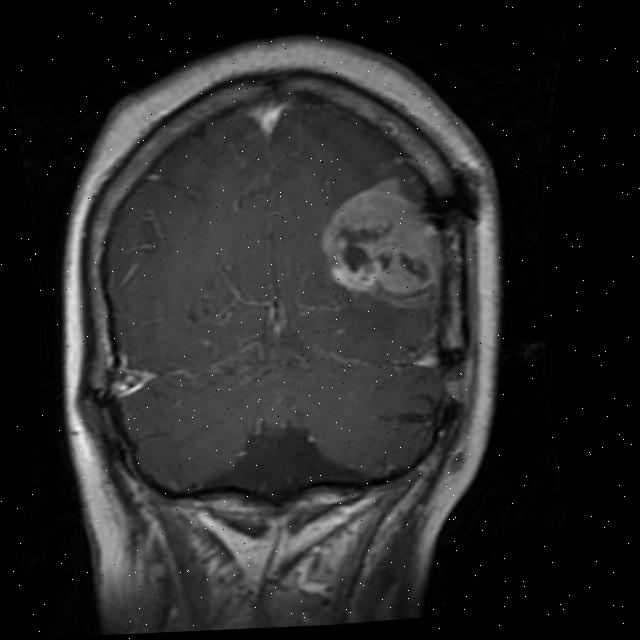Glioma: (316, 171, 444, 302)
